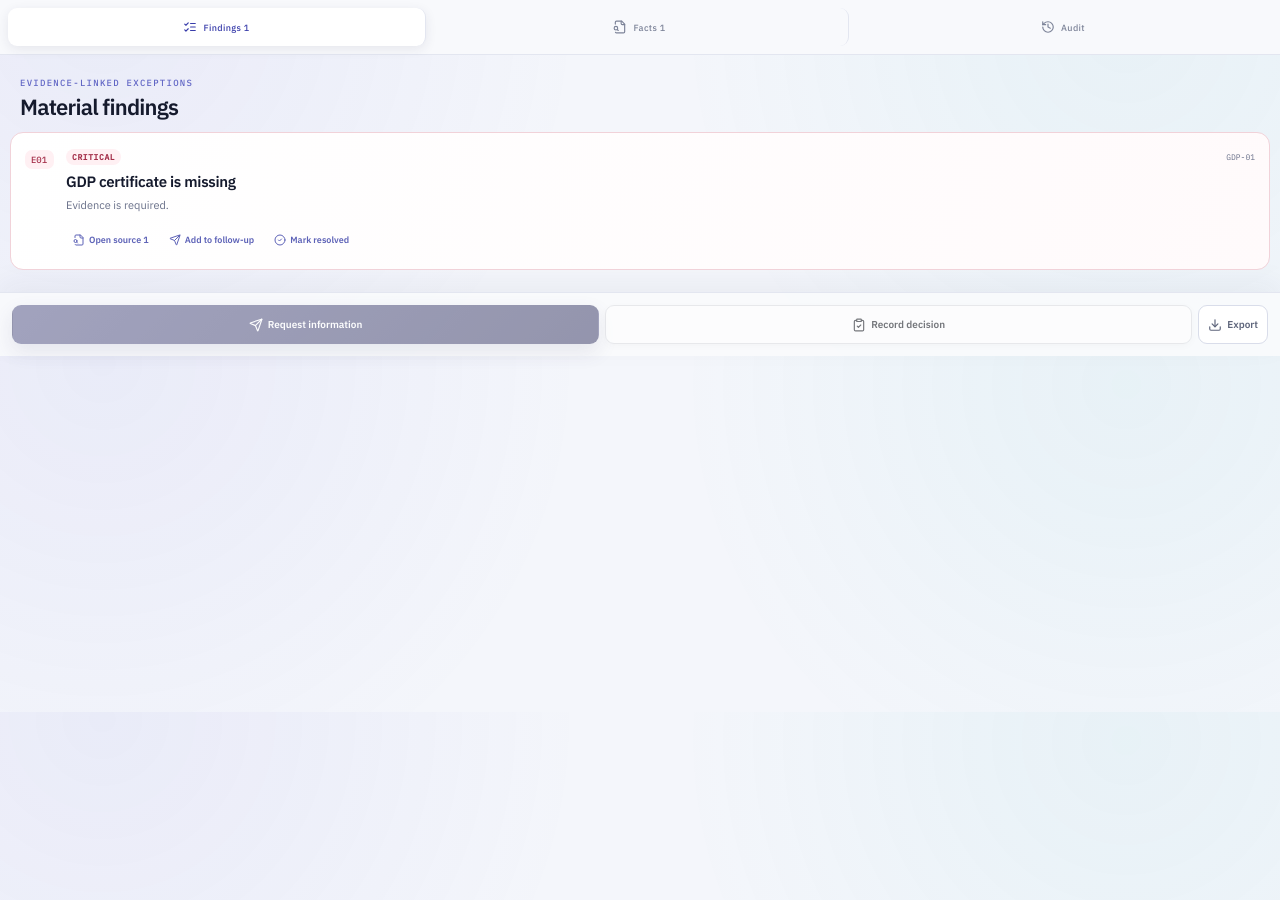
Test: review actions › records and copies a request when the source document has no contact
Click the button "Add to follow-up".
click(211, 240)  # box x1=162 y1=226 x2=261 y2=254
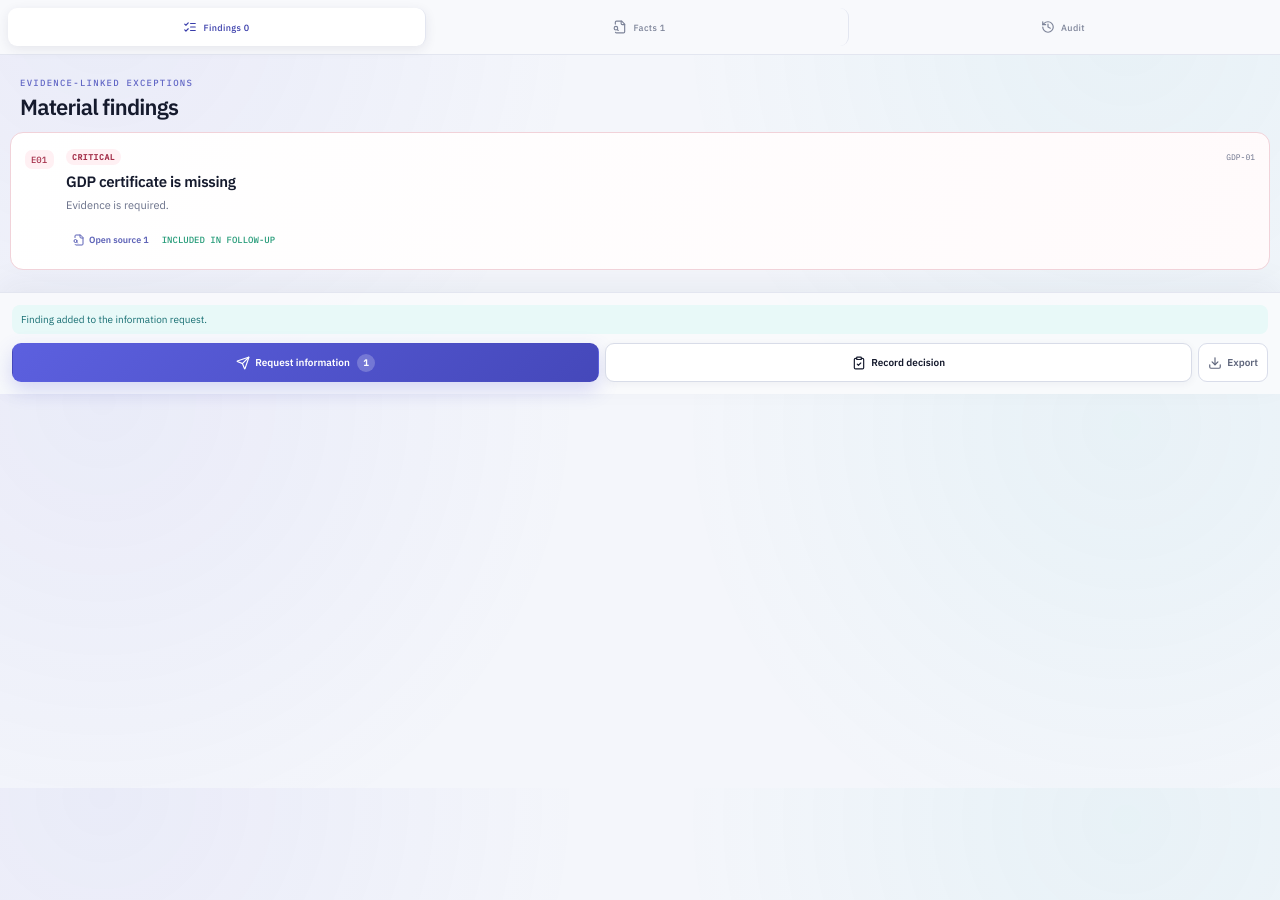
Click the button "Request information 1".
click(306, 363)  # box x1=12 y1=344 x2=599 y2=382
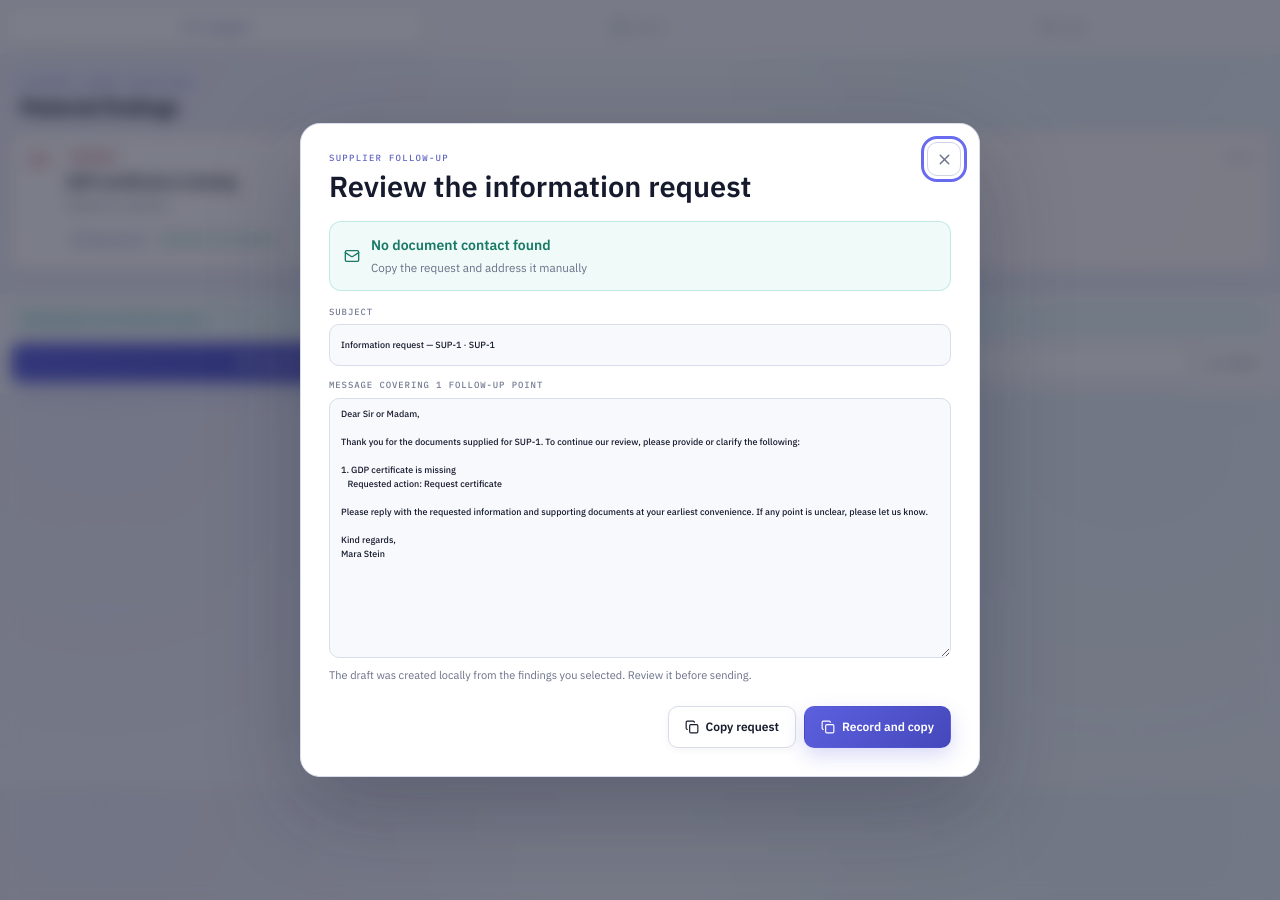
Expected: the text "No document contact found" is shown, x1=371 y1=236 x2=551 y2=254
Click the button "Record and copy".
click(877, 727)  # box x1=804 y1=706 x2=951 y2=748
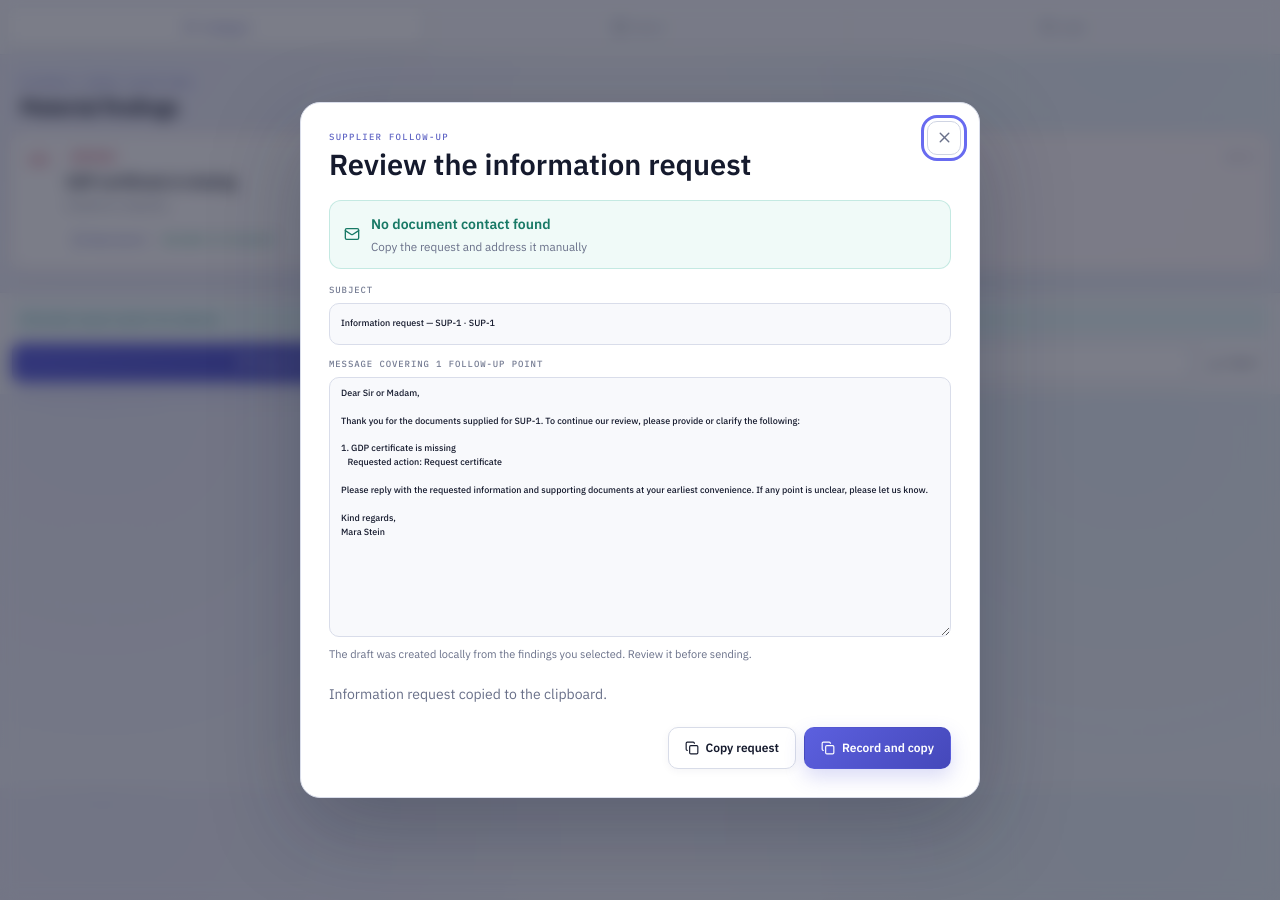
Expected: the message shows "copied to the clipboard", x1=329 y1=685 x2=607 y2=703
